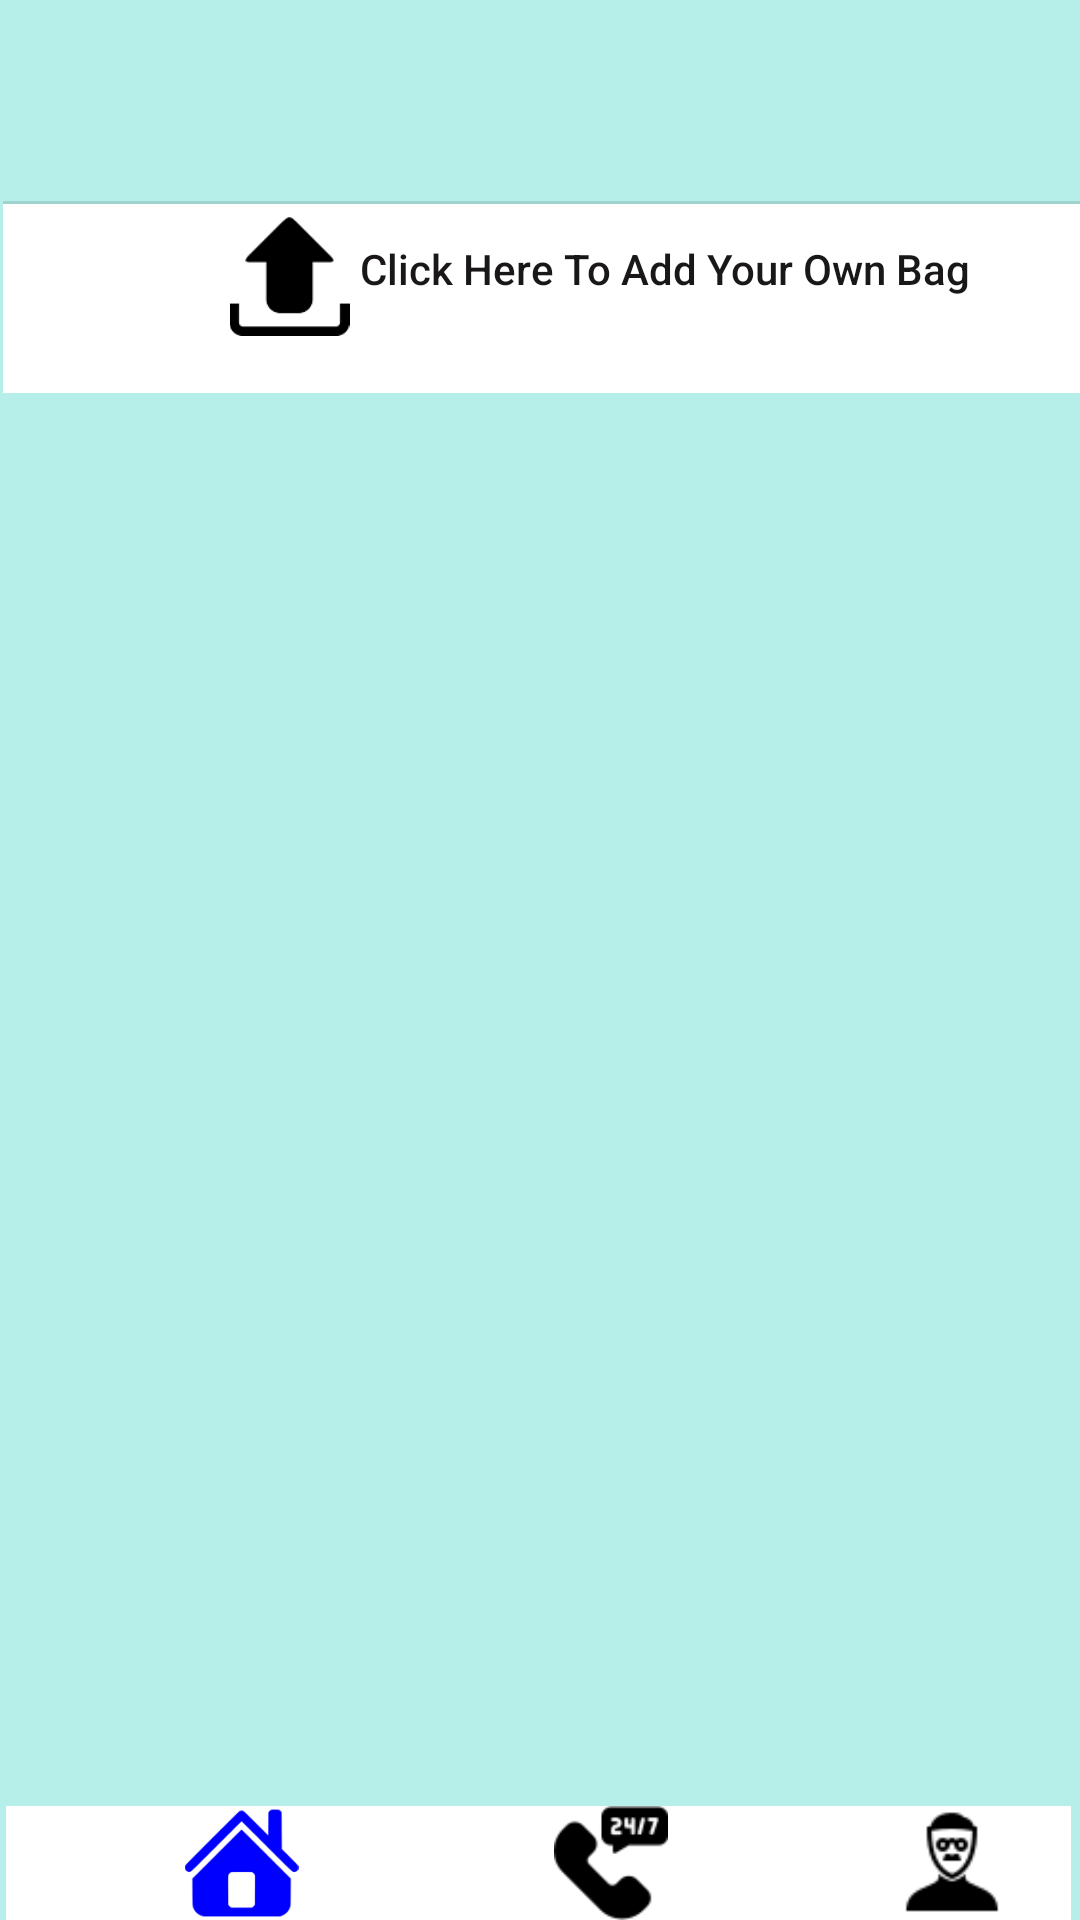

Icons on this 1080 x 1920 Android screen, each with the point to tap as point (x, y):
support: point (603, 1870)
uploadimg: point (290, 276)
